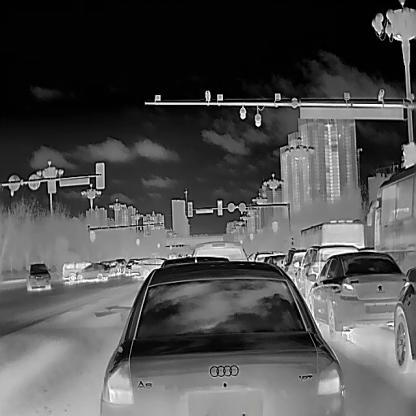car: (97, 255, 346, 415), (306, 251, 410, 342), (367, 164, 416, 293), (293, 244, 363, 304), (299, 220, 365, 262), (394, 266, 415, 373), (191, 240, 248, 261), (282, 246, 306, 289), (129, 257, 168, 278), (61, 261, 96, 281), (26, 262, 51, 290), (75, 262, 111, 280), (264, 253, 286, 267), (125, 257, 140, 275), (253, 250, 272, 262), (114, 258, 127, 273), (108, 260, 121, 275)
